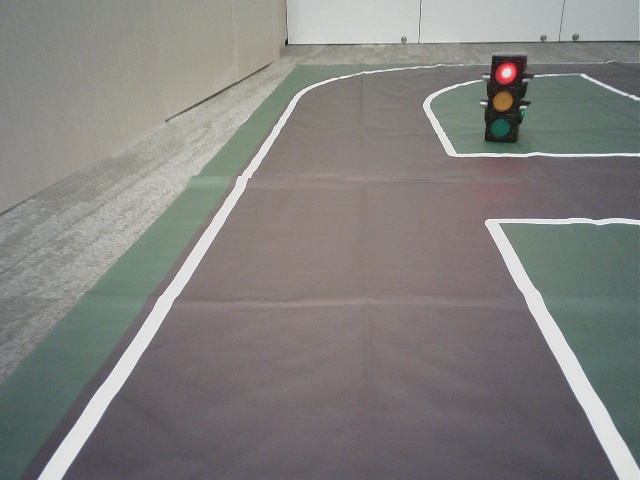red: (490, 57, 516, 138)
